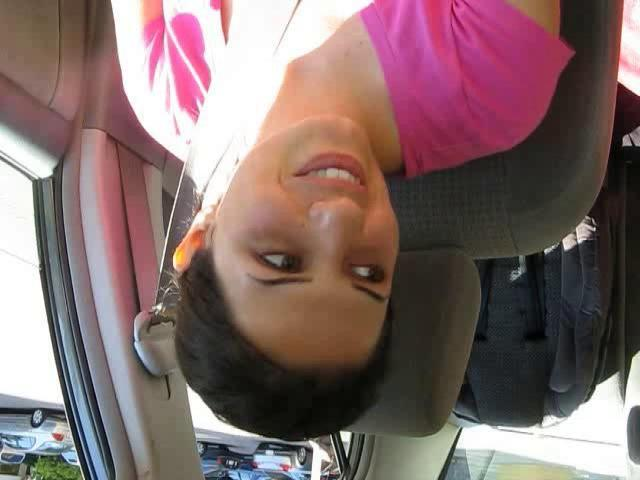eye_open: (254, 243, 312, 280), (347, 257, 388, 288)
face: (207, 113, 403, 318)
